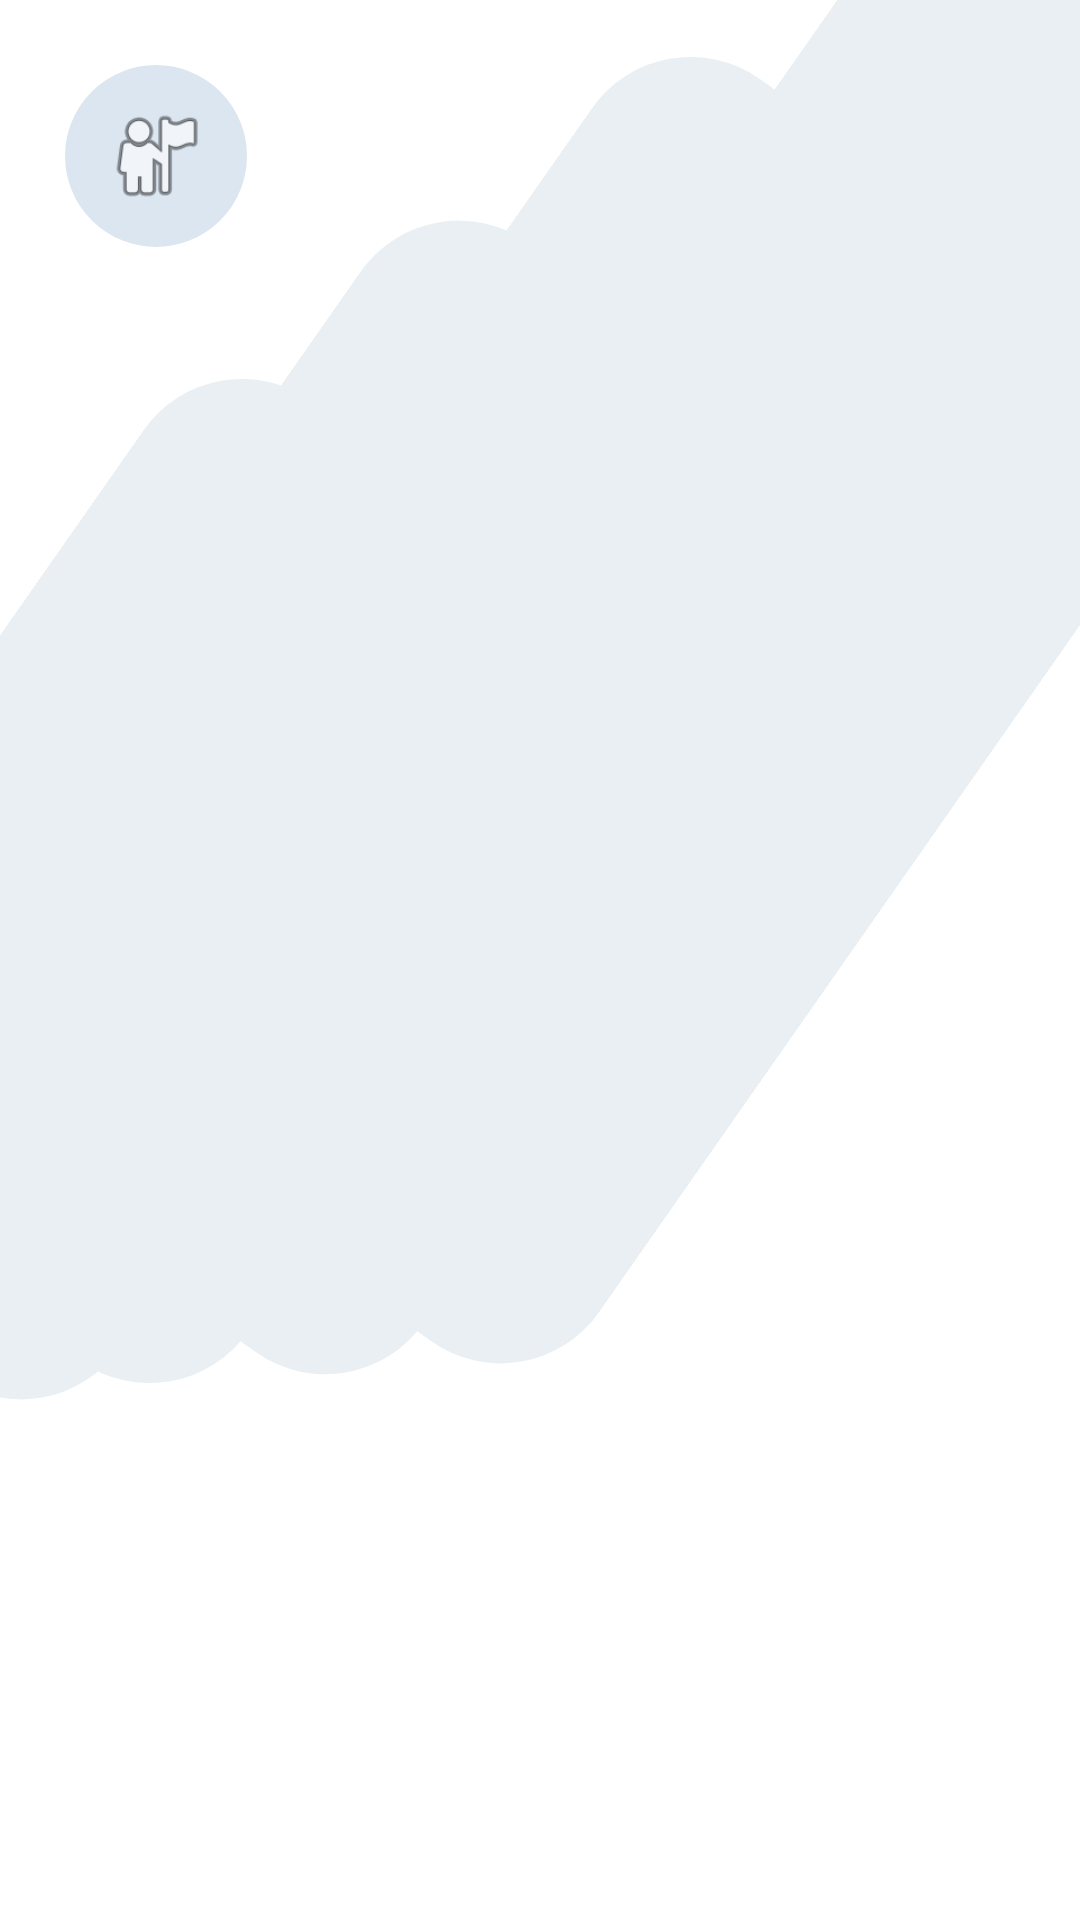

Where icons sit on this 1080px x 1920px app screen, as (x1, y1, x2, y2):
myplaces: (65, 65, 247, 247)
